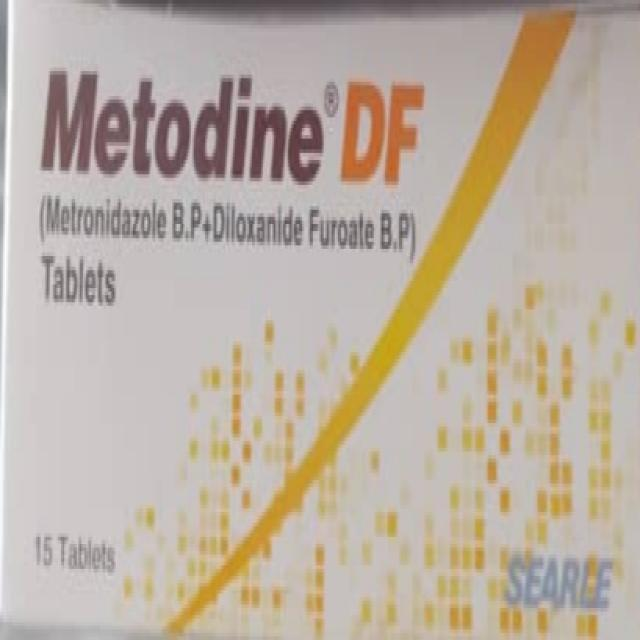drug-name: (37, 62, 430, 186)
